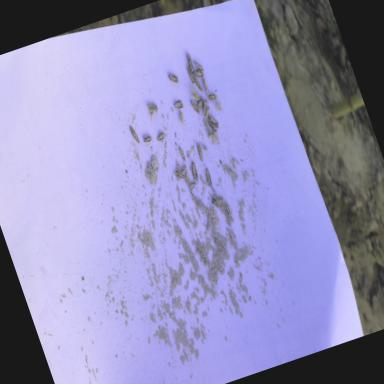pbw: (188, 160, 201, 182), (202, 214, 216, 233), (185, 54, 197, 76), (223, 196, 234, 220), (202, 168, 215, 188), (200, 98, 213, 116), (192, 74, 204, 93), (198, 198, 210, 217), (188, 86, 202, 102), (195, 142, 206, 162), (186, 64, 196, 86), (206, 116, 218, 134), (130, 125, 140, 146), (208, 113, 220, 130), (228, 231, 238, 251), (201, 76, 211, 96), (190, 98, 201, 116), (212, 236, 224, 252), (147, 170, 159, 186), (168, 71, 181, 85), (190, 190, 200, 208), (197, 247, 207, 265), (214, 196, 227, 209), (178, 146, 188, 162), (155, 130, 167, 142), (142, 135, 154, 147), (208, 91, 220, 103), (224, 210, 233, 226), (196, 96, 206, 110), (194, 59, 204, 73), (183, 171, 193, 185), (202, 106, 213, 118), (187, 180, 198, 192), (174, 168, 185, 180), (193, 68, 204, 79), (213, 207, 220, 224), (178, 112, 186, 126), (179, 164, 189, 175), (174, 99, 184, 110), (209, 194, 218, 205), (208, 133, 216, 141)
